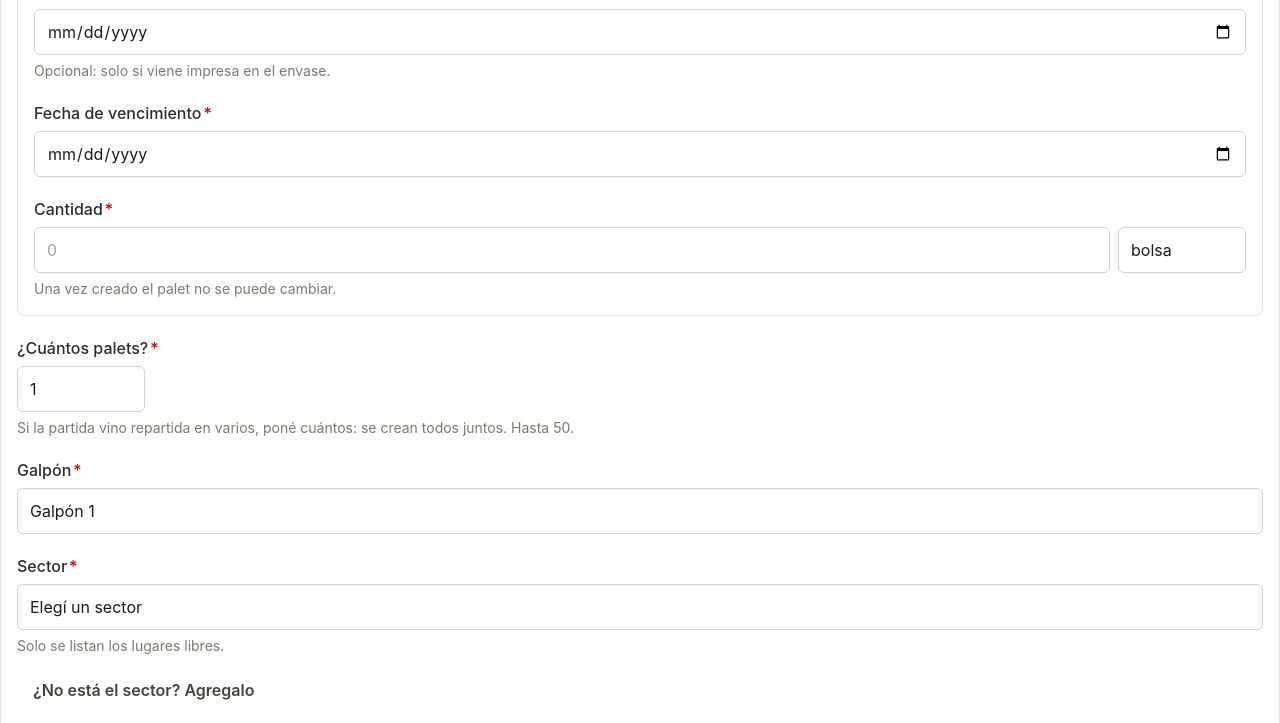
alta de un lote › esconde el selector de sector y avisa que quedan sin ubicar
(page scrolled)
Type "10" into the field labelled "¿Cuántos palets?*" at (81, 389), box [17, 366, 145, 412]
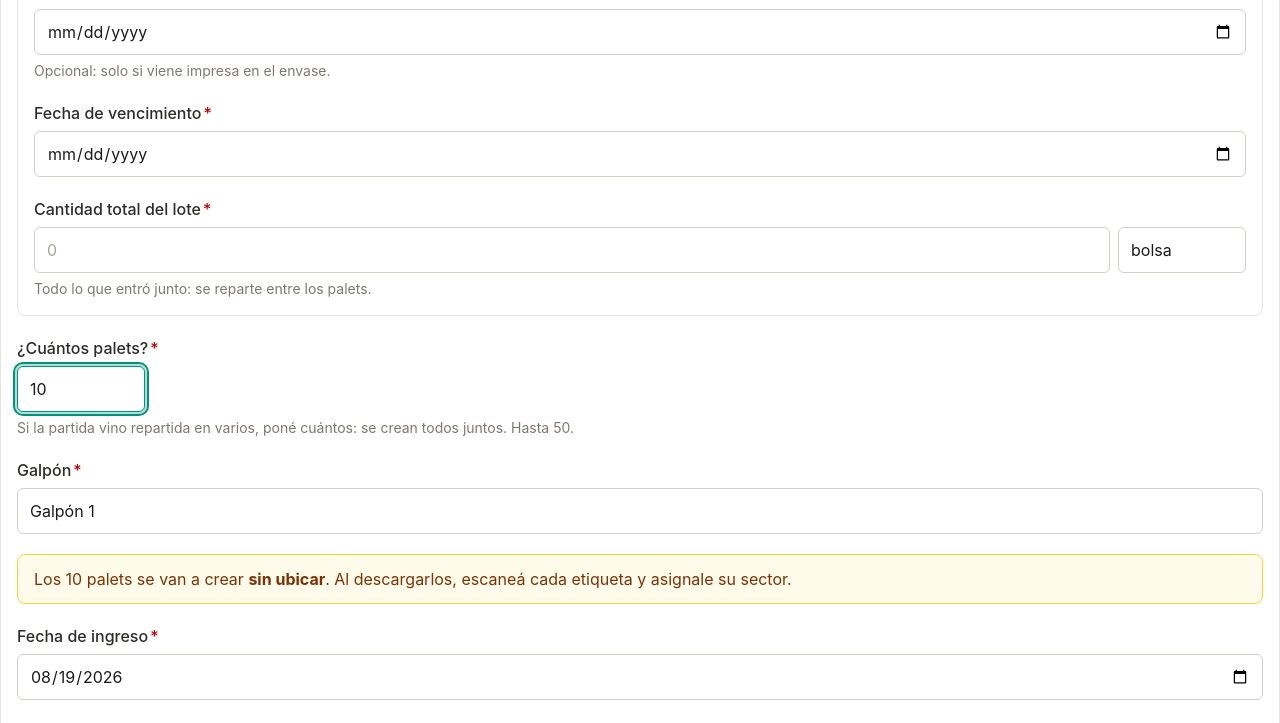
Result: the text "sin ubicar" is shown at [248, 569, 325, 589]
